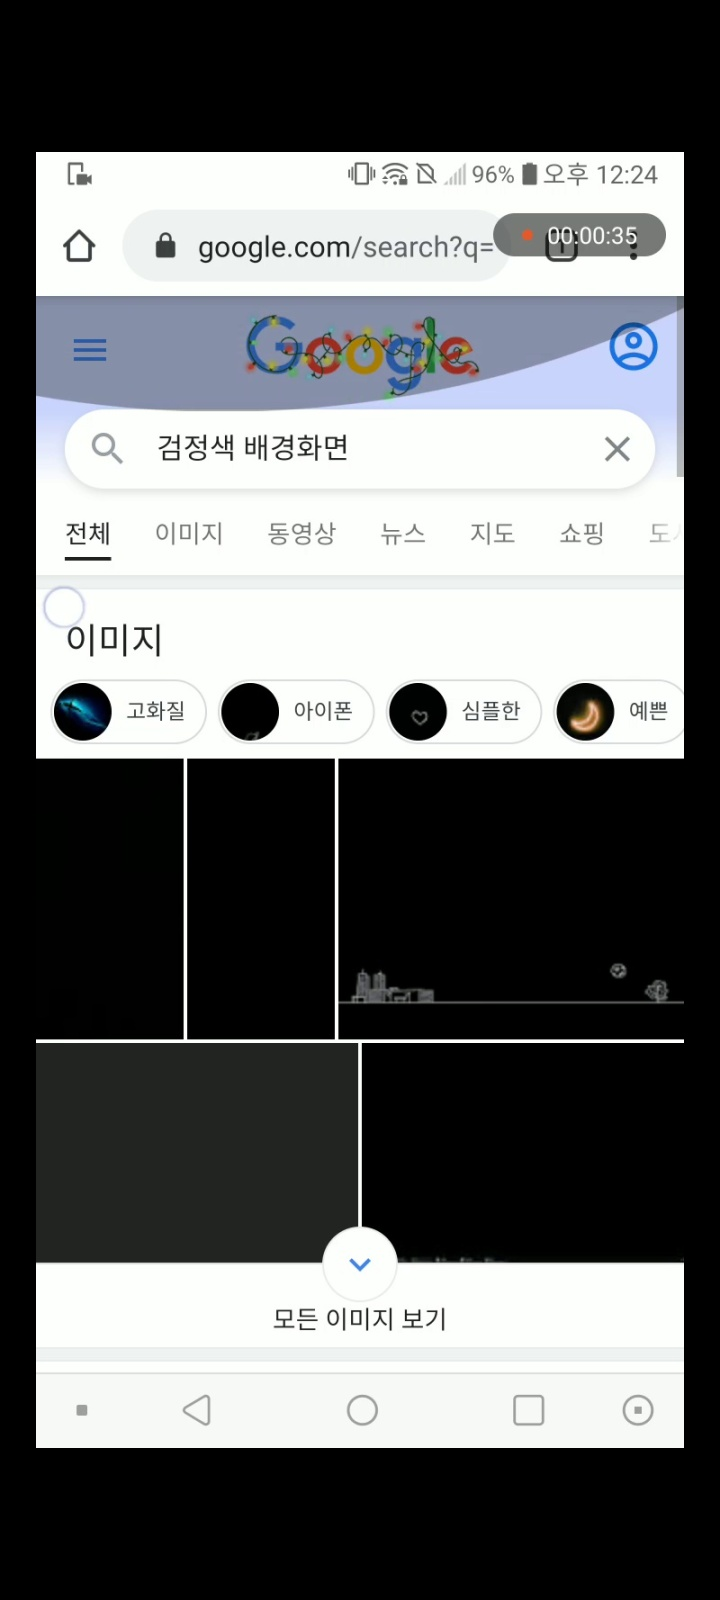Cursor: (44, 584, 89, 629)
